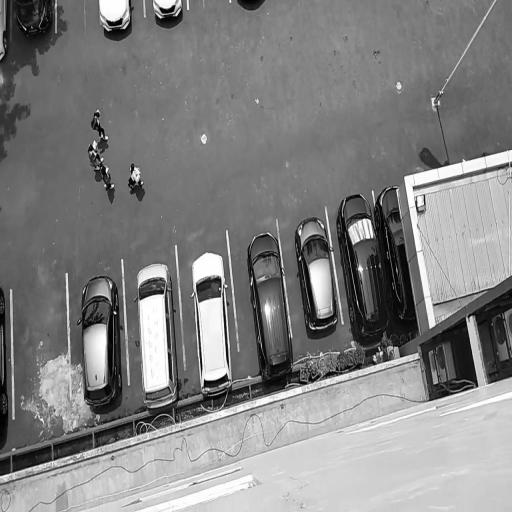Car: (331, 189, 389, 352), (129, 257, 186, 418), (242, 225, 297, 382), (186, 248, 242, 397), (72, 267, 126, 413), (291, 206, 341, 338), (375, 182, 416, 338), (7, 0, 57, 42), (95, 0, 136, 41), (148, 0, 189, 30)
Space Available: (12, 275, 72, 417), (55, 1, 102, 35)
